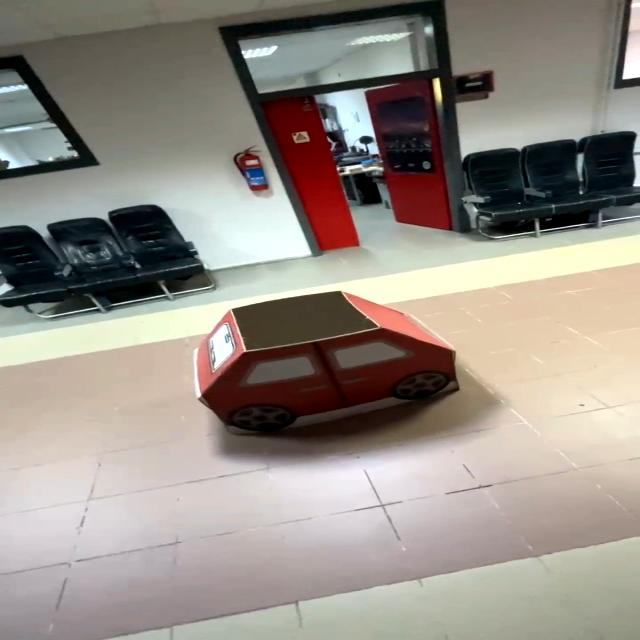red_car: (132, 274, 496, 452)
